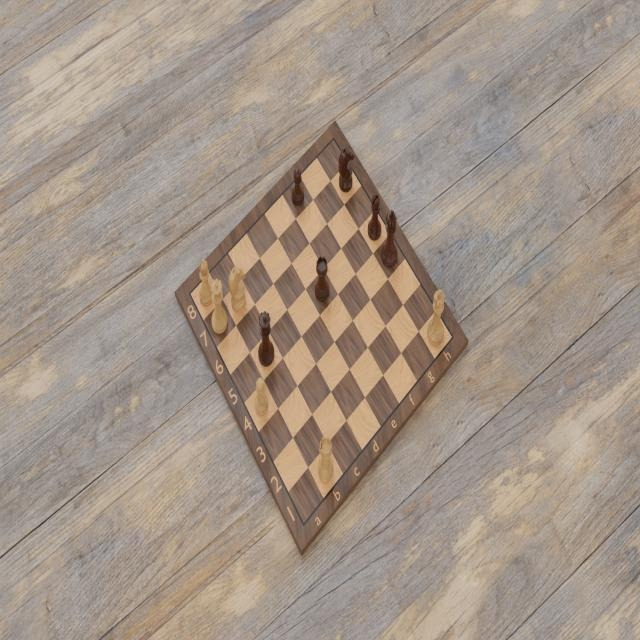black-bishop: (366, 189, 381, 240)
black-king: (380, 210, 400, 268)
black-knight: (228, 264, 247, 312), (338, 145, 354, 195)
black-pawn: (289, 167, 307, 209)
black-queen: (257, 312, 276, 368)
black-rook: (313, 256, 330, 304)
white-bishop: (197, 258, 215, 309)
white-king: (427, 289, 445, 347)
white-pawn: (252, 377, 269, 417)
white-queen: (211, 277, 229, 339)
white-rook: (317, 436, 335, 486)
